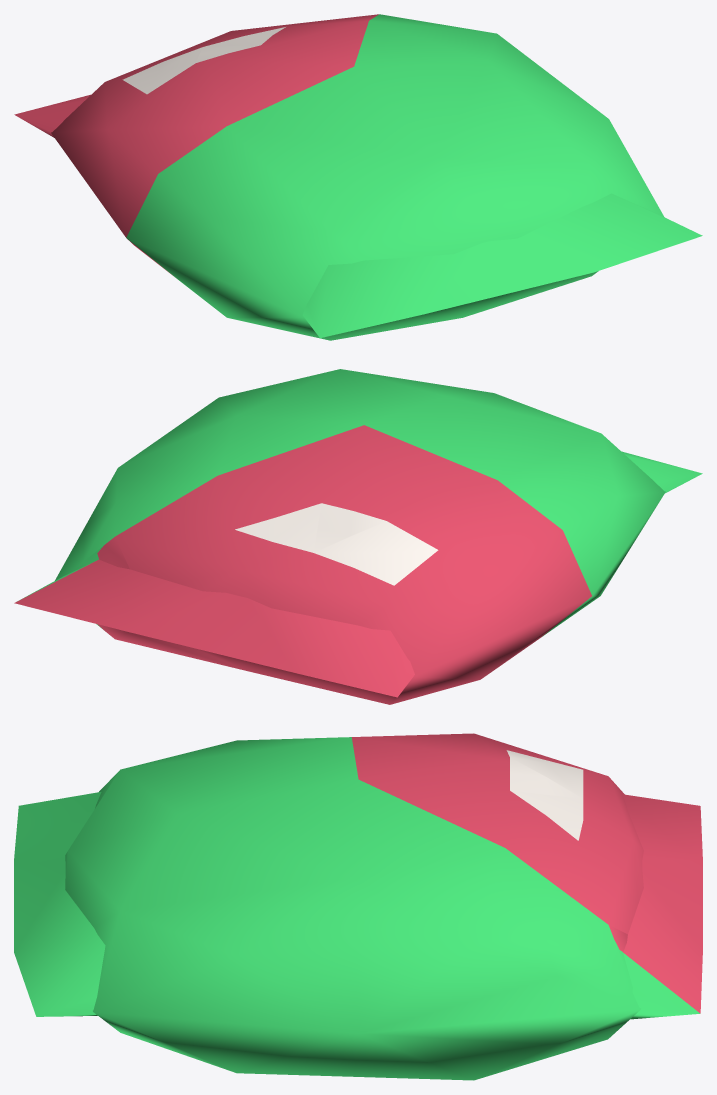
The model's file is Snack2.fbx.
3 renders of one model, top to bottom at view 1: azimuth 30°, elevation 25°; view 2: azimuth 150°, elevation 25°; view 3: azimuth 270°, elevation 25°, orthographic. The views are drawn at different scales.
Visible parts, largest first — view 1: Snack2; view 2: Snack2; view 3: Snack2.
Boxes of the visible parts, x1=… form: Snack2: x1=14, y1=14, x2=702, y2=340; Snack2: x1=14, y1=369, x2=702, y2=704; Snack2: x1=14, y1=733, x2=702, y2=1080.
Bounding box in the file's own units: 29.18 × 13.21 × 33.88.
